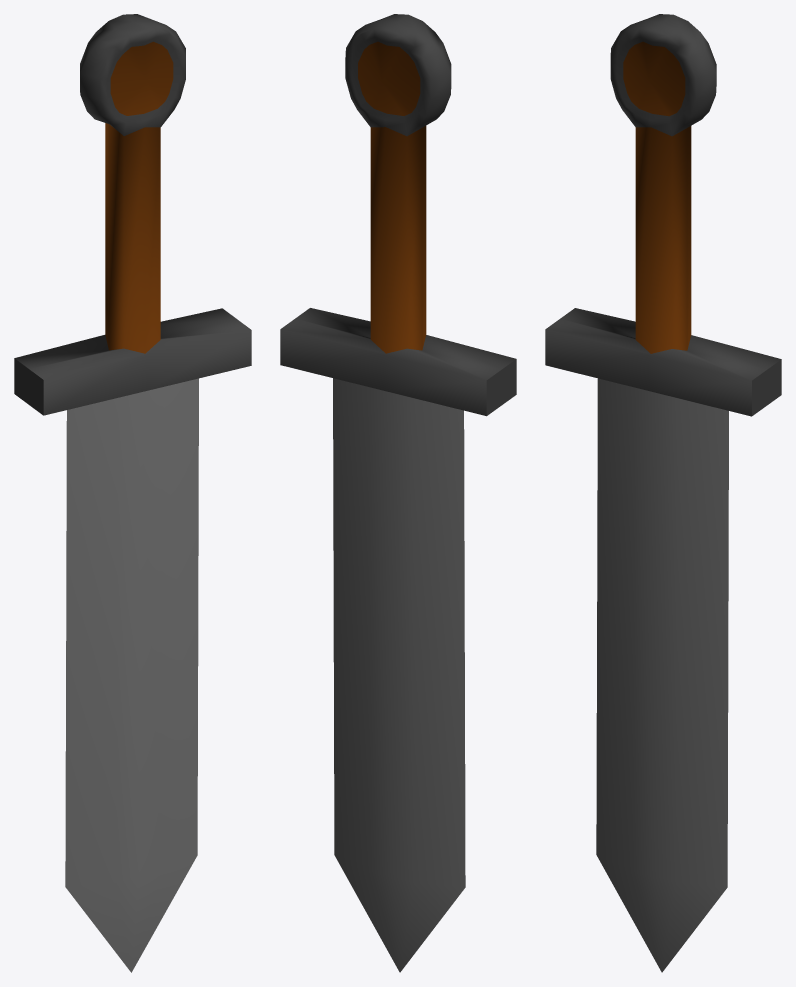
Rendered from AKNIFE.fbx.
3 renders of one model, left to right at view 1: azimuth 30°, elevation 25°; view 2: azimuth 150°, elevation 25°; view 3: azimuth 330°, elevation 25°, orthographic.
Visible parts, largest first — view 1: Cube.004; view 2: Cube.004; view 3: Cube.004.
Part boxes in pixels (<box>): Cube.004: <box>14,14,251,972</box>; Cube.004: <box>280,14,516,972</box>; Cube.004: <box>545,14,781,972</box>.
Bounding box in the file's own units: 8.69 × 38.02 × 2.26.
Materials: 1 (1 with a texture image).
